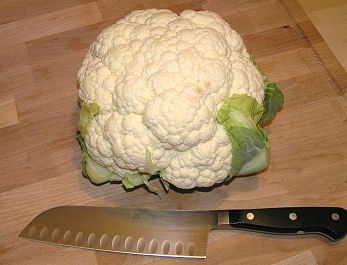cauliflower: (74, 4, 284, 196)
